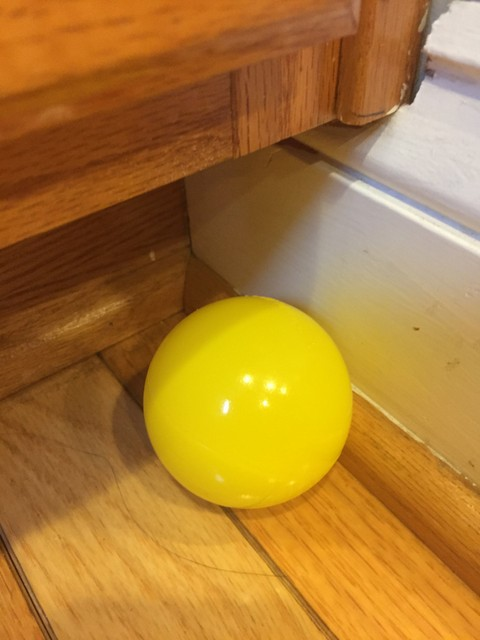ball: (139, 293, 355, 508)
